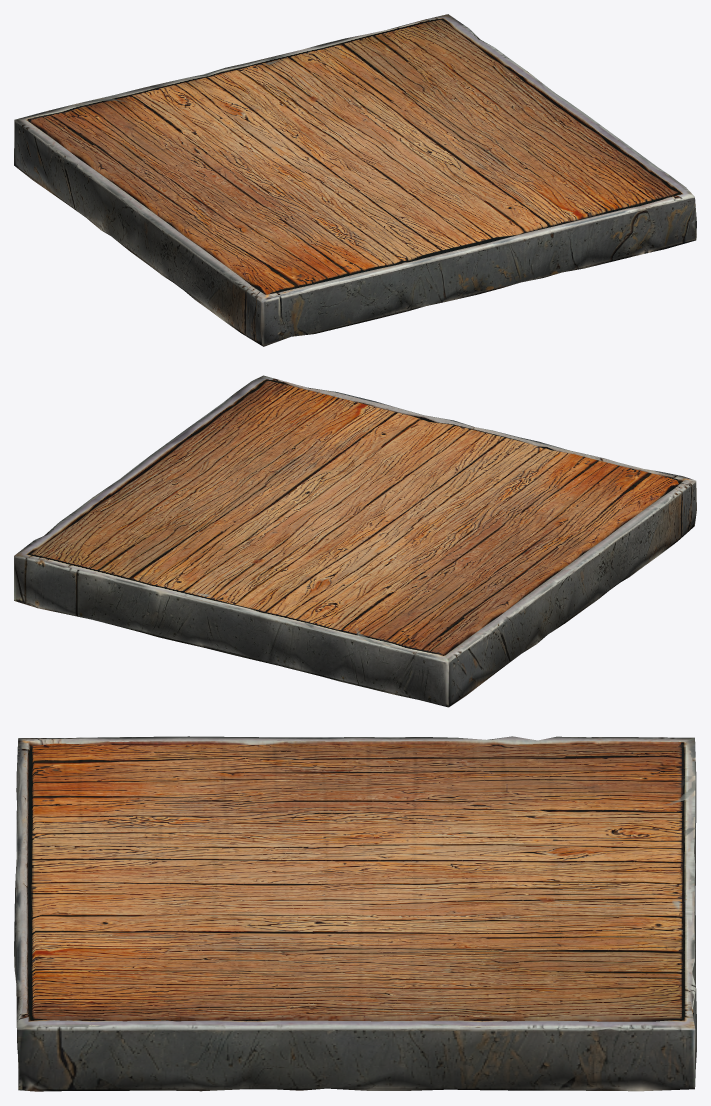
The model's file is EX_Camp_Floor.fbx.
The picture shows the model from 3 angles, top to bottom: view 1: azimuth 30°, elevation 25°; view 2: azimuth 150°, elevation 25°; view 3: azimuth 270°, elevation 25°; orthographic projection. The views are drawn at different scales.
Parts seen in each view (by area): view 1: texture_mapping; view 2: texture_mapping; view 3: texture_mapping.
Boxes of the visible parts, left/top/right/bottom form: texture_mapping: left=14, top=14, right=696, bottom=346; texture_mapping: left=14, top=375, right=696, bottom=707; texture_mapping: left=14, top=736, right=696, bottom=1091.
Size of the model in its own units: 0.9984 by 0.986 by 0.109.
Materials: 1 (1 with a texture image).
